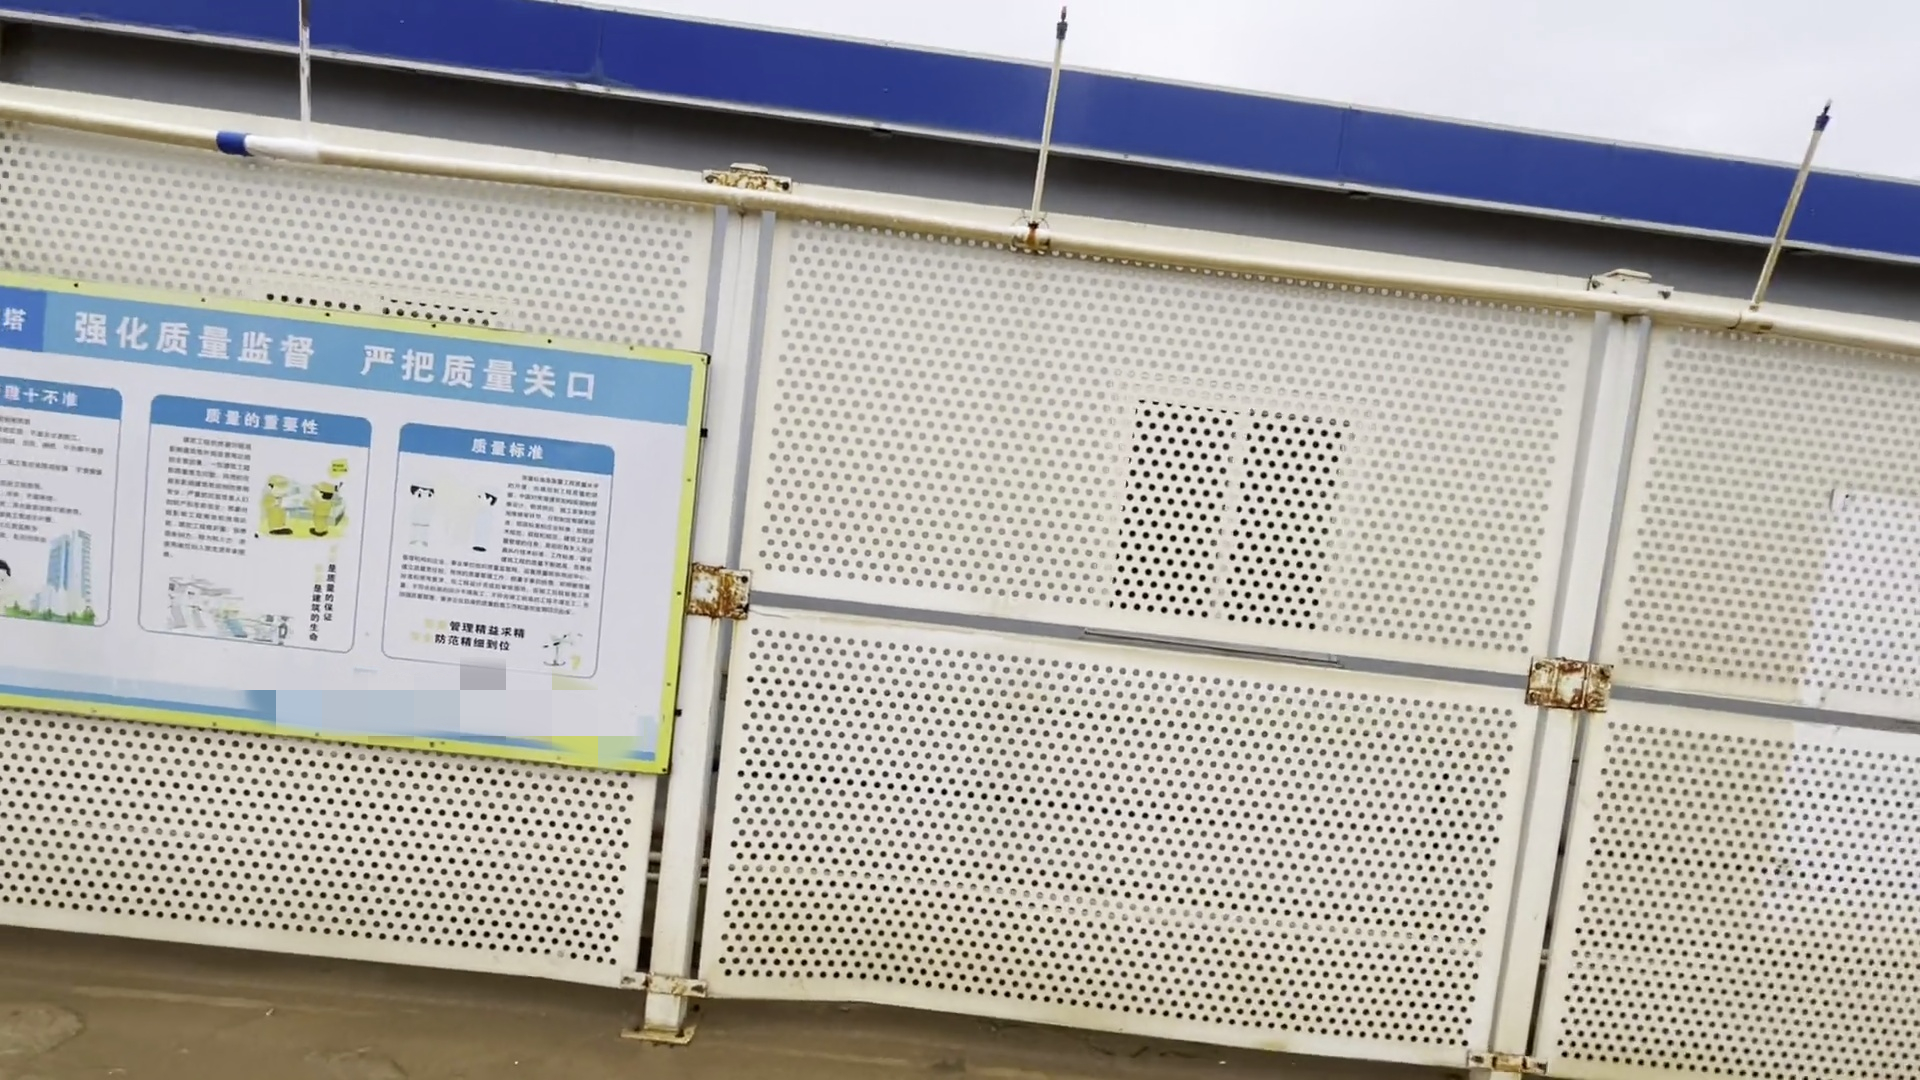slogan: (8, 272, 699, 800)
